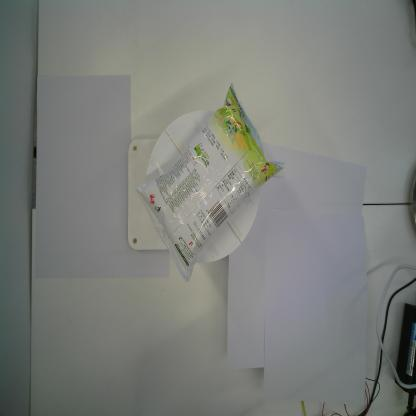Puffed Food: (136, 78, 286, 285)
